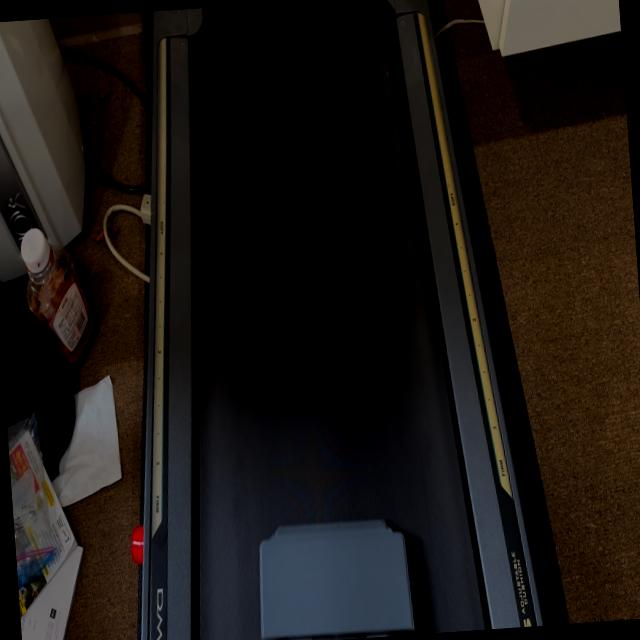Trash: (225, 478, 435, 640)
